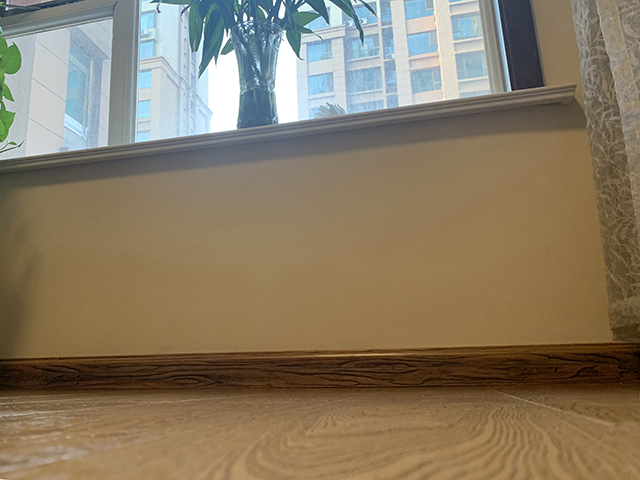curtain: (569, 1, 640, 342)
